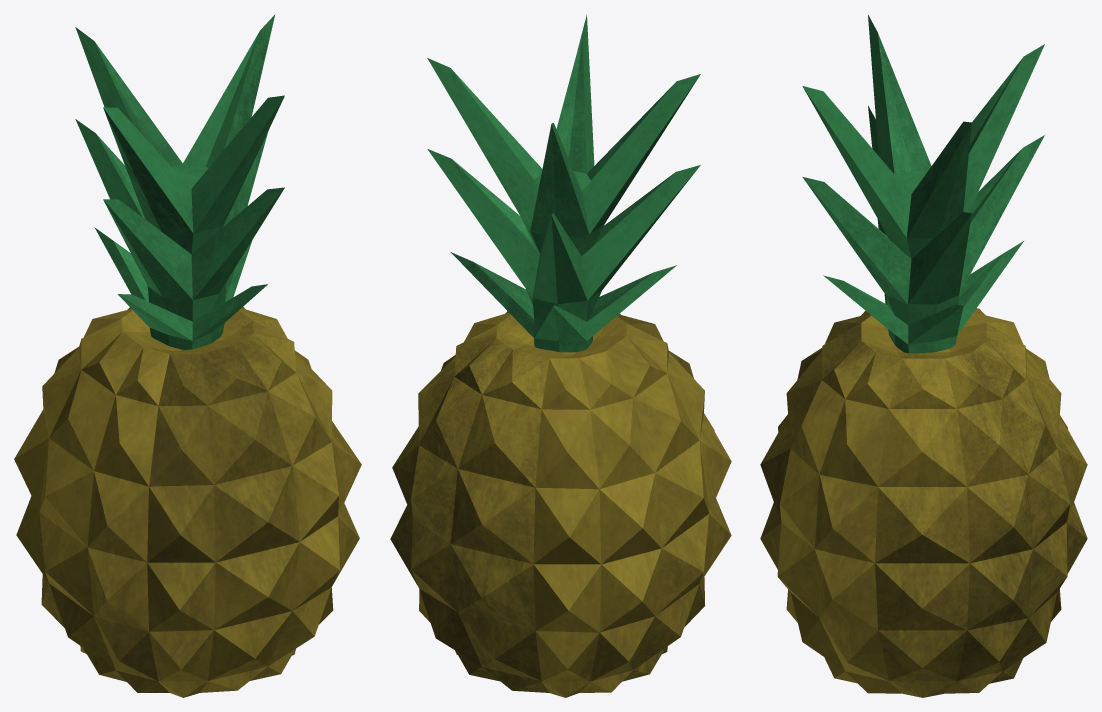
File: Pineapple.fbx
The picture shows the model from 3 angles, left to right: view 1: azimuth 30°, elevation 25°; view 2: azimuth 150°, elevation 25°; view 3: azimuth 270°, elevation 25°; orthographic projection.
Visible parts, largest first — view 1: Pinya, Fulles; view 2: Pinya, Fulles; view 3: Pinya, Fulles.
Boxes of the visible parts, left/top/right/bottom form: Pinya: left=14, top=306, right=361, bottom=697; Fulles: left=75, top=14, right=284, bottom=349; Pinya: left=390, top=311, right=731, bottom=697; Fulles: left=427, top=14, right=700, bottom=352; Pinya: left=760, top=308, right=1087, bottom=697; Fulles: left=802, top=15, right=1044, bottom=353.
Bounding box in the file's own units: 101 × 203 × 101.
2 materials, 2 textured.
